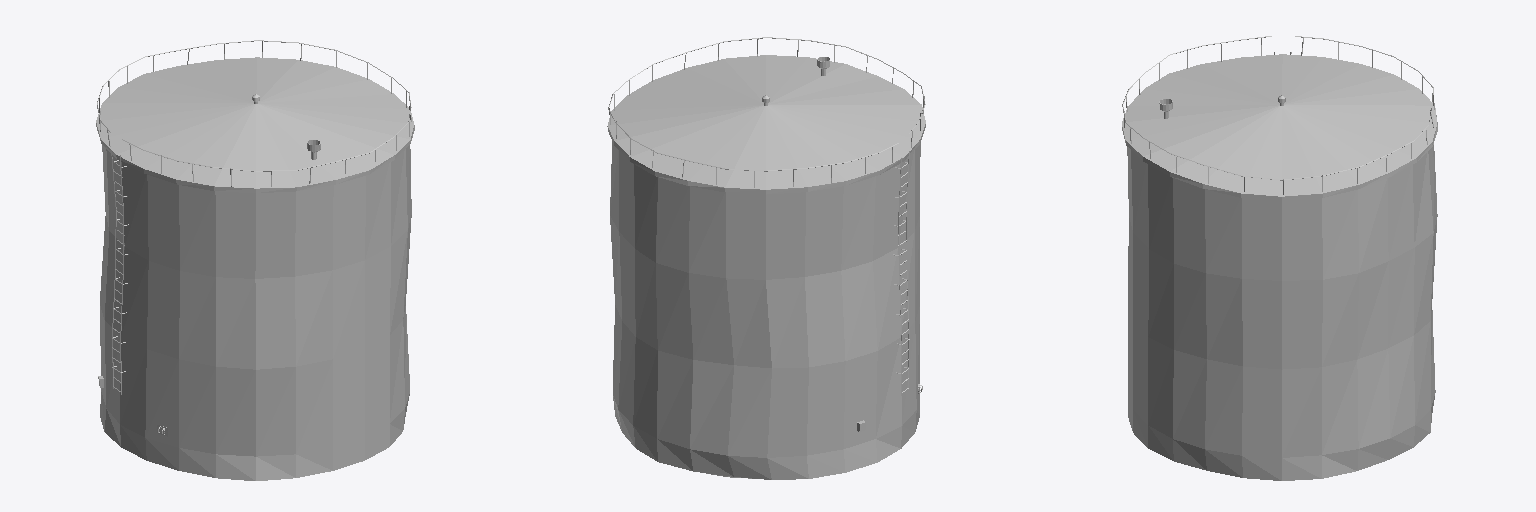
Rendered from bld4211_tank.obj.
3 views of the same model, side by side, from view 1: azimuth 30°, elevation 25°; view 2: azimuth 150°, elevation 25°; view 3: azimuth 270°, elevation 25° (orthographic).
Visible parts, largest first — view 1: vertices_vertices.090; view 2: vertices_vertices.090; view 3: vertices_vertices.090.
Part boxes in pixels (x1,y1,x2,y2): vertices_vertices.090: (96, 40, 414, 480); vertices_vertices.090: (607, 37, 925, 479); vertices_vertices.090: (1122, 36, 1437, 480).
Bounding box in the file's own units: 16.83 × 18.57 × 16.54.